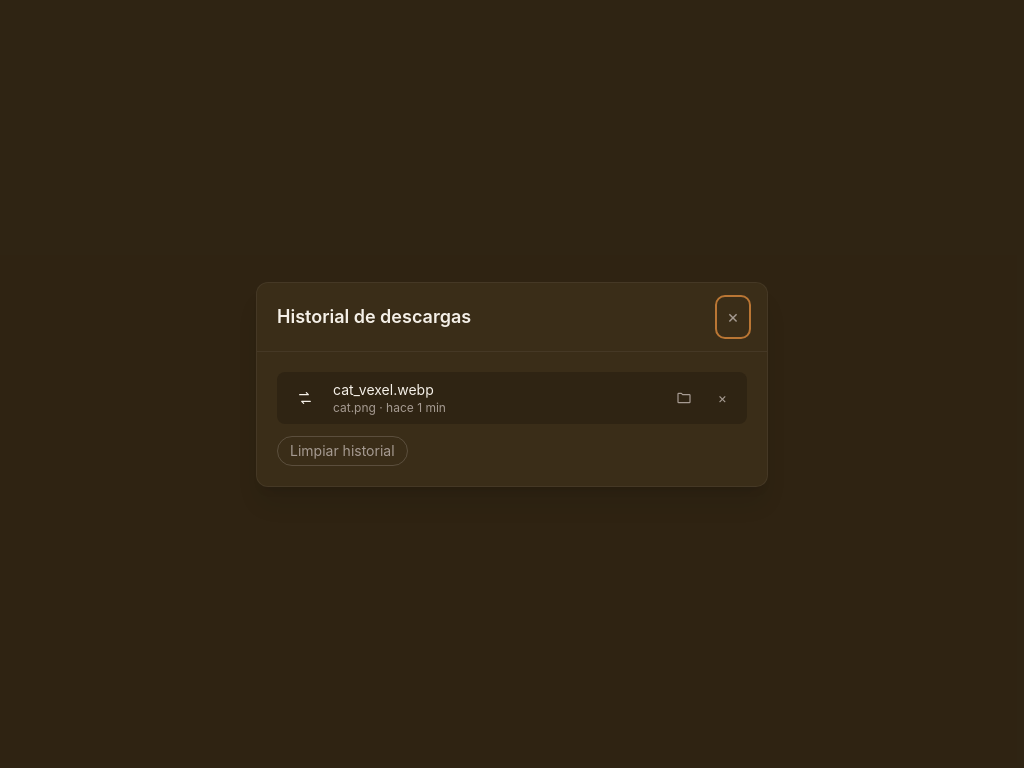
Scenario: HistoryPanel › clears the whole history
What coordinates should you click on to do the following:
click the button "Limpiar historial"
I would click on:
 (342, 450)
Its box is [277,436,408,466].
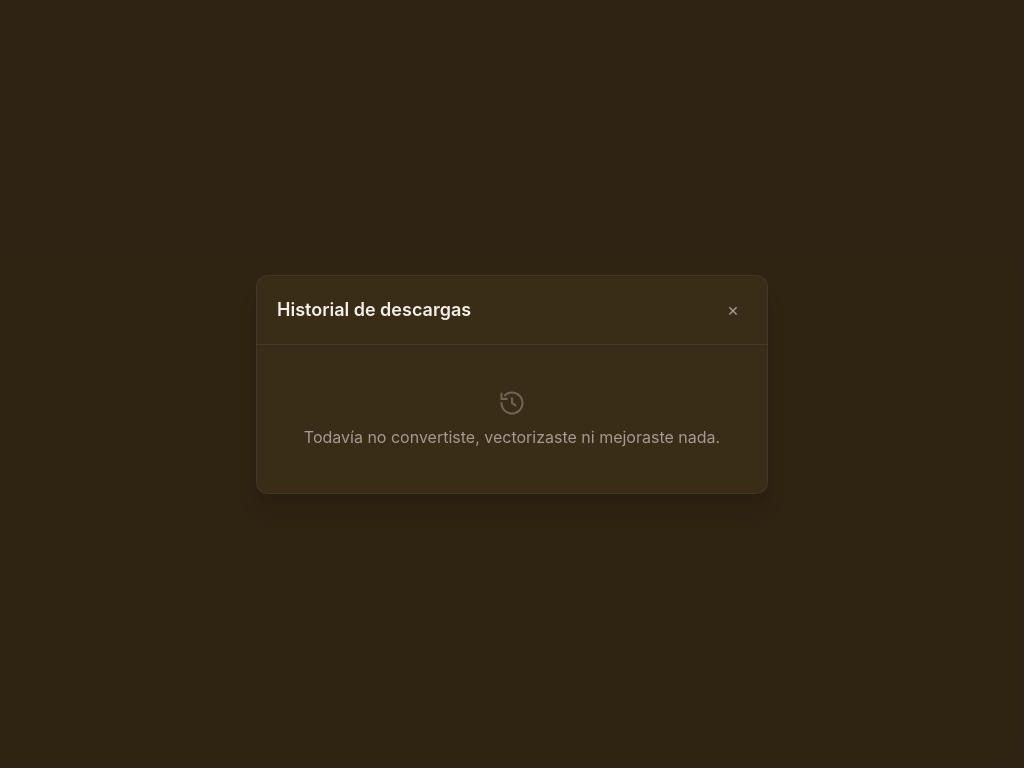
Expected: the text "Todavía no convertiste, vectorizaste ni mejoraste nada." is shown, [304,424,720,448]
